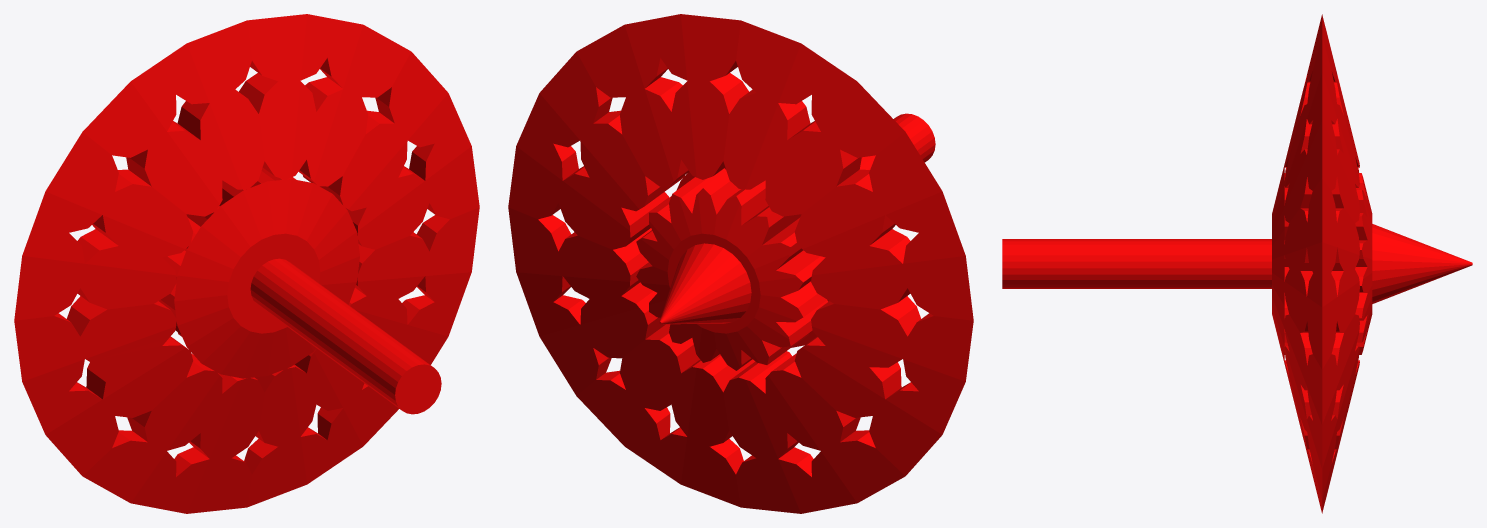
File: JoeTop.gltf
3 views of the same model, side by side, from view 1: azimuth 30°, elevation 25°; view 2: azimuth 150°, elevation 25°; view 3: azimuth 270°, elevation 25° (orthographic). The views are drawn at different scales.
Parts seen in each view (by area): view 1: obj_0; view 2: obj_0; view 3: obj_0.
Boxes of the visible parts, <box> form: obj_0: <box>14,14,479,513</box>; obj_0: <box>508,14,973,513</box>; obj_0: <box>1002,14,1472,513</box>.
Size of the model in its own units: 40 by 40 by 37.5.
